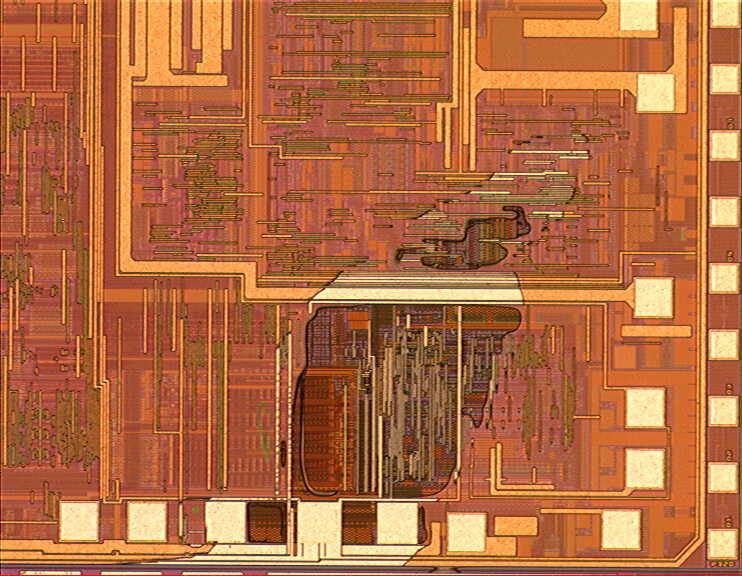COATING BAD: (178, 112, 595, 576)
